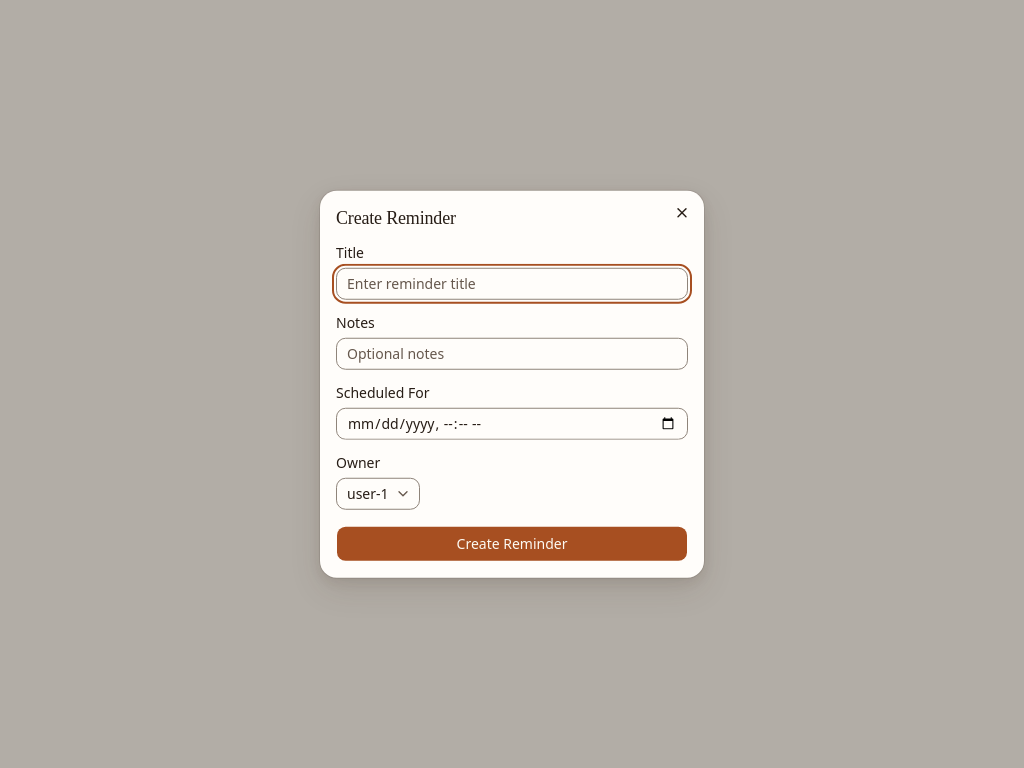
Scenario: CreateReminderDialog › shows validation error when submitting empty scheduledFor
Type "Test Reminder" into the field with placeholder "Enter reminder title".
click(512, 283); type("Test Reminder")  # box [336, 267, 688, 299]
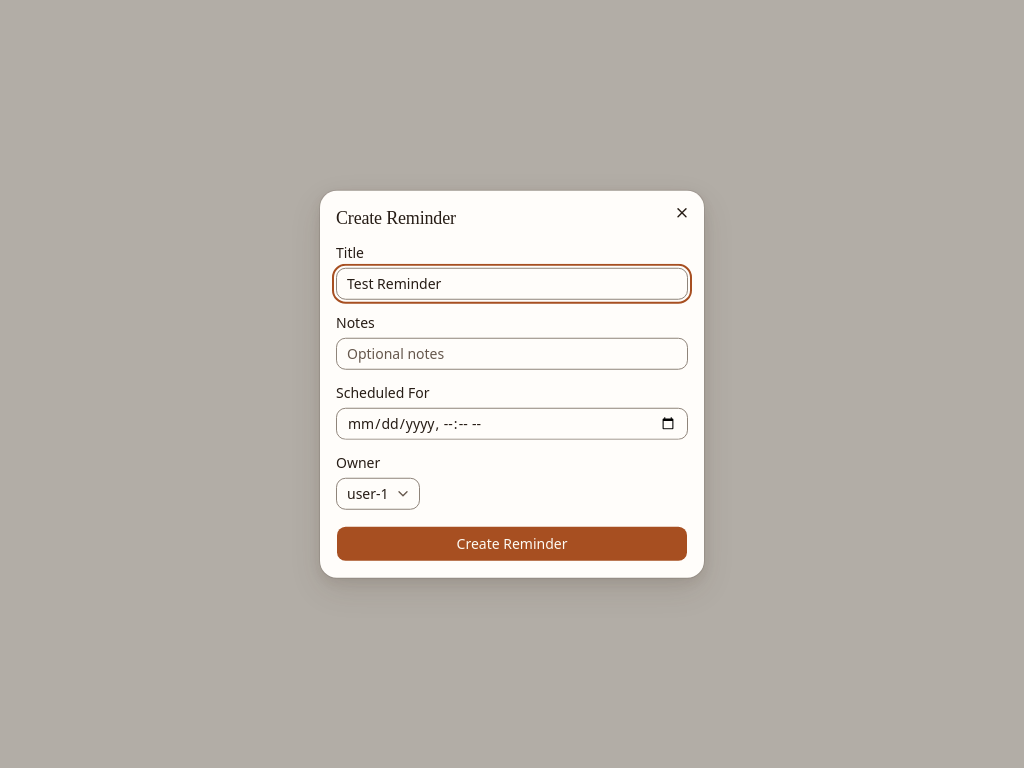
Click the button "Create Reminder".
click(512, 543)  # box [336, 525, 688, 561]
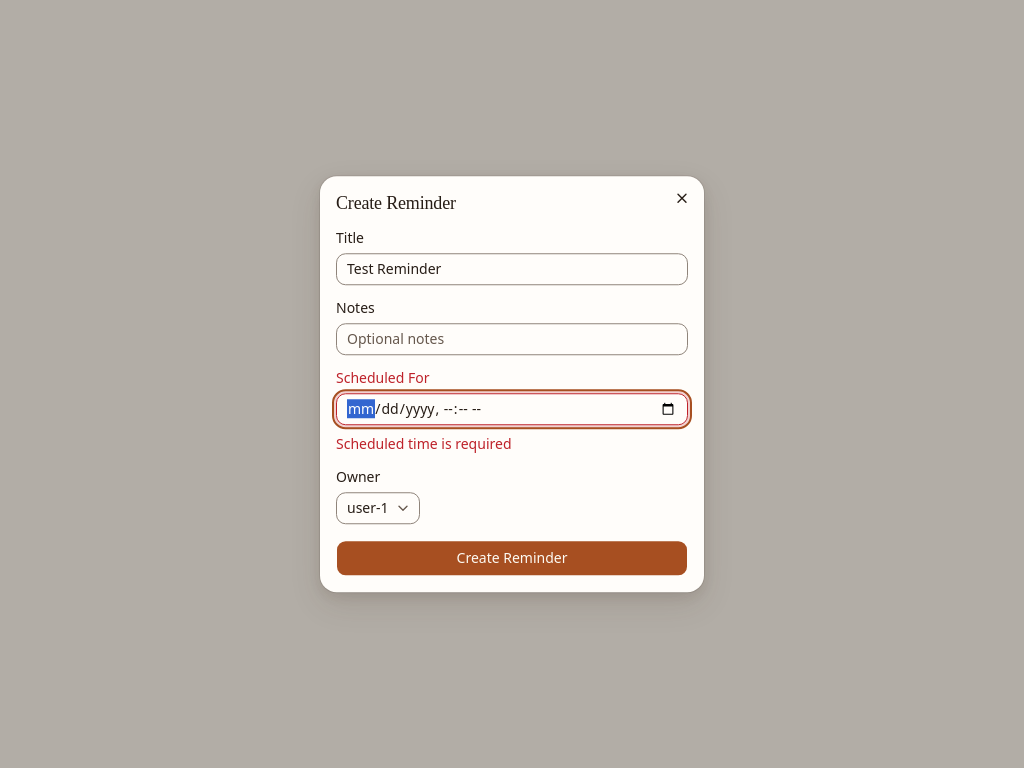
Expected: the text "Scheduled time is required" is shown, [336, 434, 512, 453]
